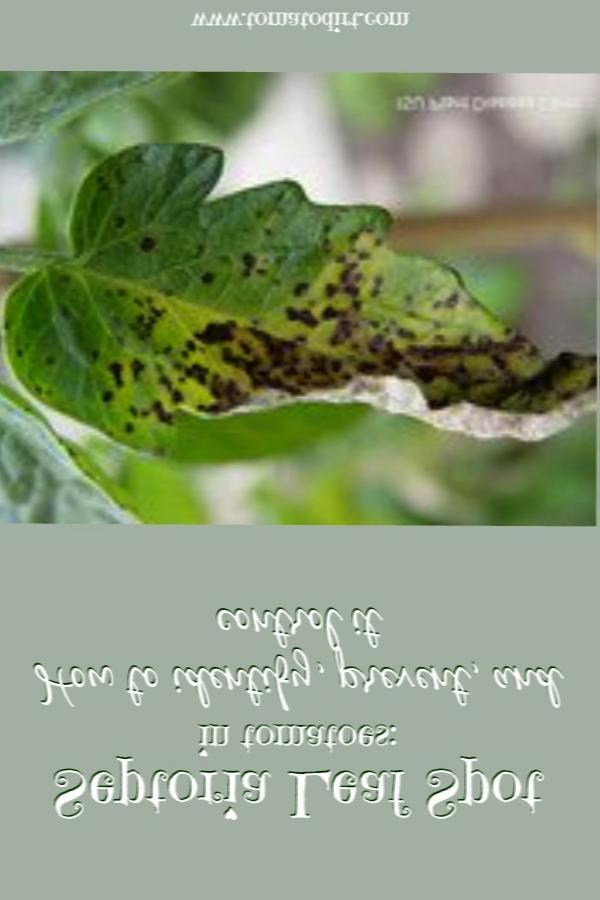Tomato Septoria leaf spot: (10, 134, 600, 463)
